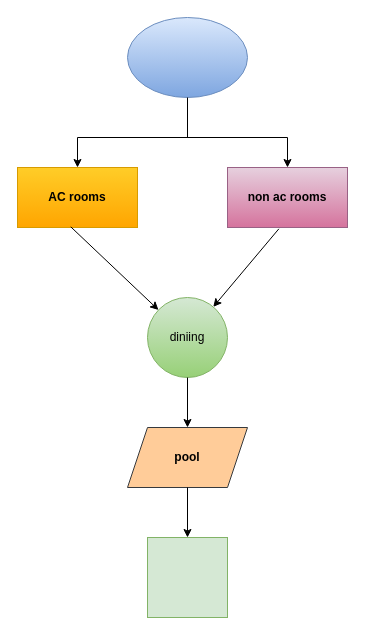
The diagram is 365 pixels wide and 635 high, and some of its shapes have lost their labels. The shapes that lost their labels are listed below. From the top down, each one's centre as x and y in pixels, then its label:
[187,57]: hotel
[187,577]: ratting
